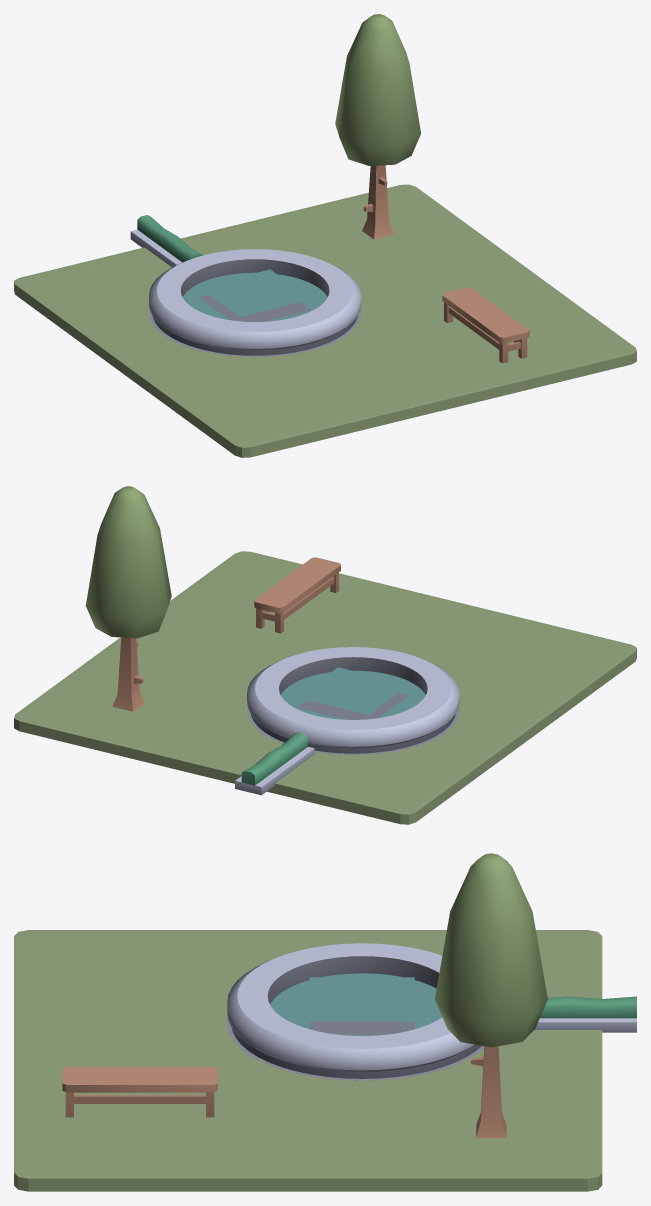
Rendered from park-1.glb.
The picture shows the model from 3 angles, top to bottom: view 1: azimuth 30°, elevation 25°; view 2: azimuth 150°, elevation 25°; view 3: azimuth 270°, elevation 25°; orthographic projection. The views are drawn at different scales.
Visible parts, largest first — view 1: garden base, fountain-round.001, tree-high-round.001, stall-bench.001, (%ignore).003, hedge.001, (%ignore).001, fountain-center.001; view 2: garden base, fountain-round.001, tree-high-round.001, stall-bench.001, (%ignore).003, hedge.001, (%ignore).001, fountain-center.001; view 3: garden base, fountain-round.001, tree-high-round.001, stall-bench.001, (%ignore).003, hedge.001, (%ignore).001, fountain-center.001.
Boxes of the visible parts, x1=… form: garden base: x1=14, y1=184, x2=636, y2=457; fountain-round.001: x1=149, y1=249, x2=361, y2=357; tree-high-round.001: x1=335, y1=14, x2=420, y2=239; stall-bench.001: x1=442, y1=287, x2=529, y2=363; (%ignore).003: x1=199, y1=269, x2=310, y2=316; hedge.001: x1=130, y1=215, x2=202, y2=267; (%ignore).001: x1=182, y1=272, x2=327, y2=321; fountain-center.001: x1=199, y1=294, x2=310, y2=321; garden base: x1=14, y1=551, x2=636, y2=824; fountain-round.001: x1=247, y1=647, x2=459, y2=754; tree-high-round.001: x1=85, y1=486, x2=171, y2=711; stall-bench.001: x1=254, y1=557, x2=340, y2=633; (%ignore).003: x1=297, y1=667, x2=409, y2=714; hedge.001: x1=235, y1=732, x2=314, y2=795; (%ignore).001: x1=281, y1=670, x2=425, y2=719; fountain-center.001: x1=297, y1=692, x2=409, y2=719; garden base: x1=14, y1=930, x2=602, y2=1191; fountain-round.001: x1=227, y1=943, x2=484, y2=1080; tree-high-round.001: x1=435, y1=853, x2=547, y2=1137; stall-bench.001: x1=62, y1=1067, x2=217, y2=1117; (%ignore).003: x1=309, y1=977, x2=414, y2=1021; hedge.001: x1=534, y1=996, x2=636, y2=1032; (%ignore).001: x1=270, y1=973, x2=442, y2=1035; fountain-center.001: x1=309, y1=1021, x2=414, y2=1034.
Bounding box in the file's own units: 1.96 × 1.06 × 2.08.
